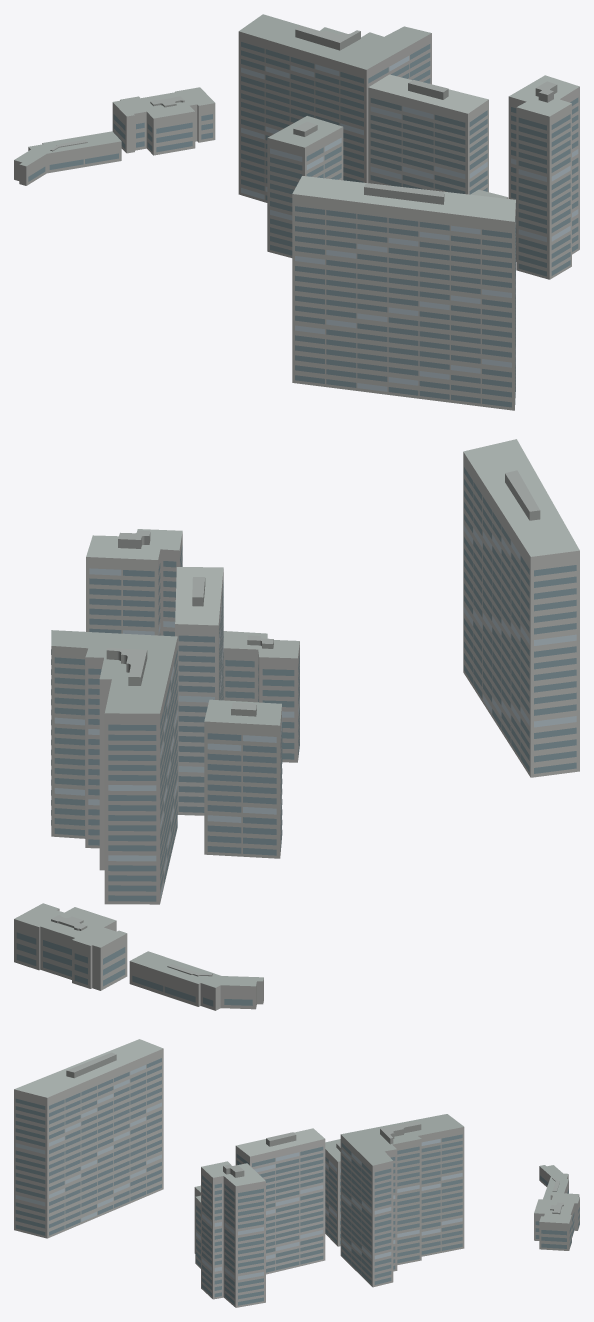
File: apt-a12283602.glb
3 views of the same model, one above another, from view 1: azimuth 30°, elevation 25°; view 2: azimuth 150°, elevation 25°; view 3: azimuth 270°, elevation 25° (orthographic). The views are drawn at different scales.
Parts seen in each view (by area): view 1: apt-a12283602; view 2: apt-a12283602; view 3: apt-a12283602.
Part boxes in pixels (bbox=[...]): apt-a12283602: bbox=[14, 14, 579, 410]; apt-a12283602: bbox=[14, 439, 579, 1010]; apt-a12283602: bbox=[14, 1039, 579, 1307].
Size of the model in its own units: 115 by 61 by 213.
